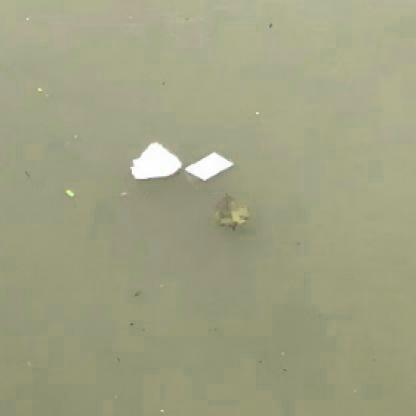Trash: (125, 140, 186, 187), (183, 149, 237, 190)
